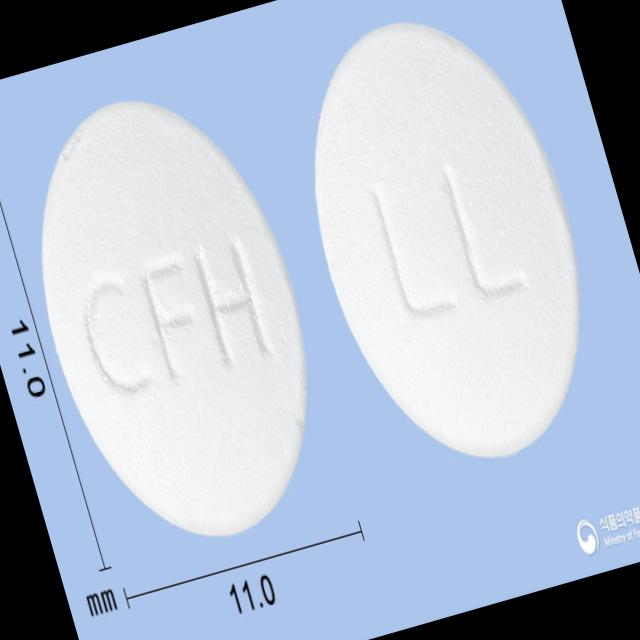Cyfloc: (0, 66, 355, 570), (264, 0, 627, 490)
